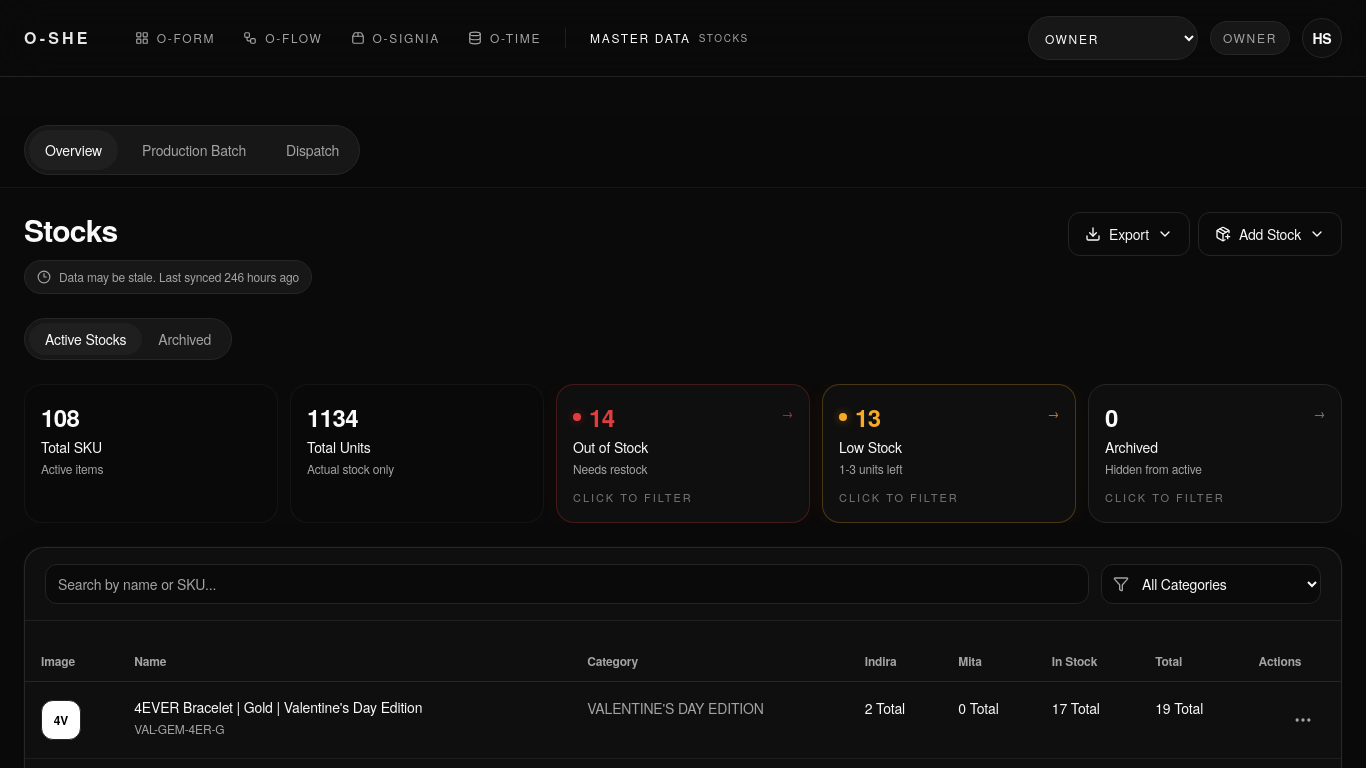
it: OverviewPage › resets the table filter when the active summary card is clicked again
This screenshot has width=1366, height=768.
Click the button "14 Out of Stock Needs restock → Click to filter" at (683, 453), box [556, 384, 810, 522]
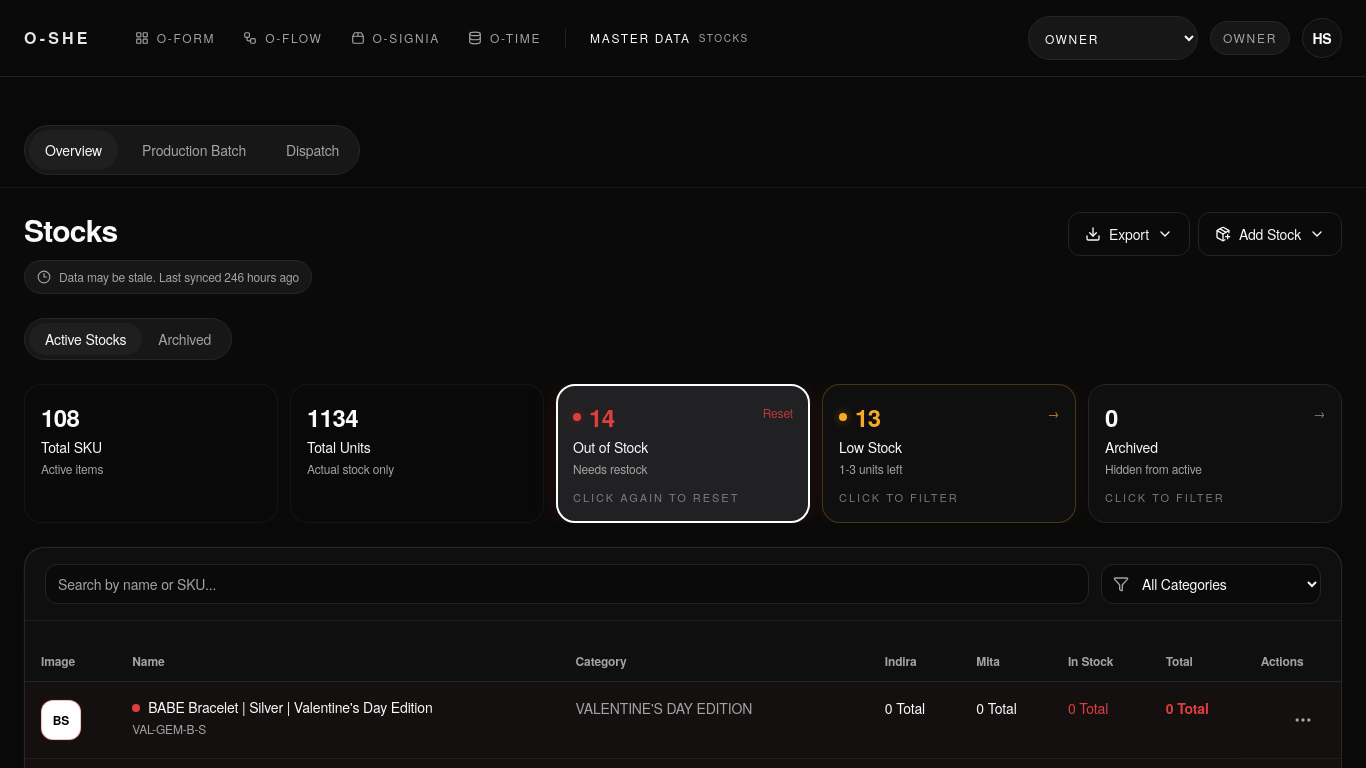
Expected: the text "4EVER Bracelet | Gold | Valentine's Day Edition" is gone
Click the button "14 Out of Stock Needs restock Reset Click again to reset" at (683, 453), box [556, 384, 810, 522]
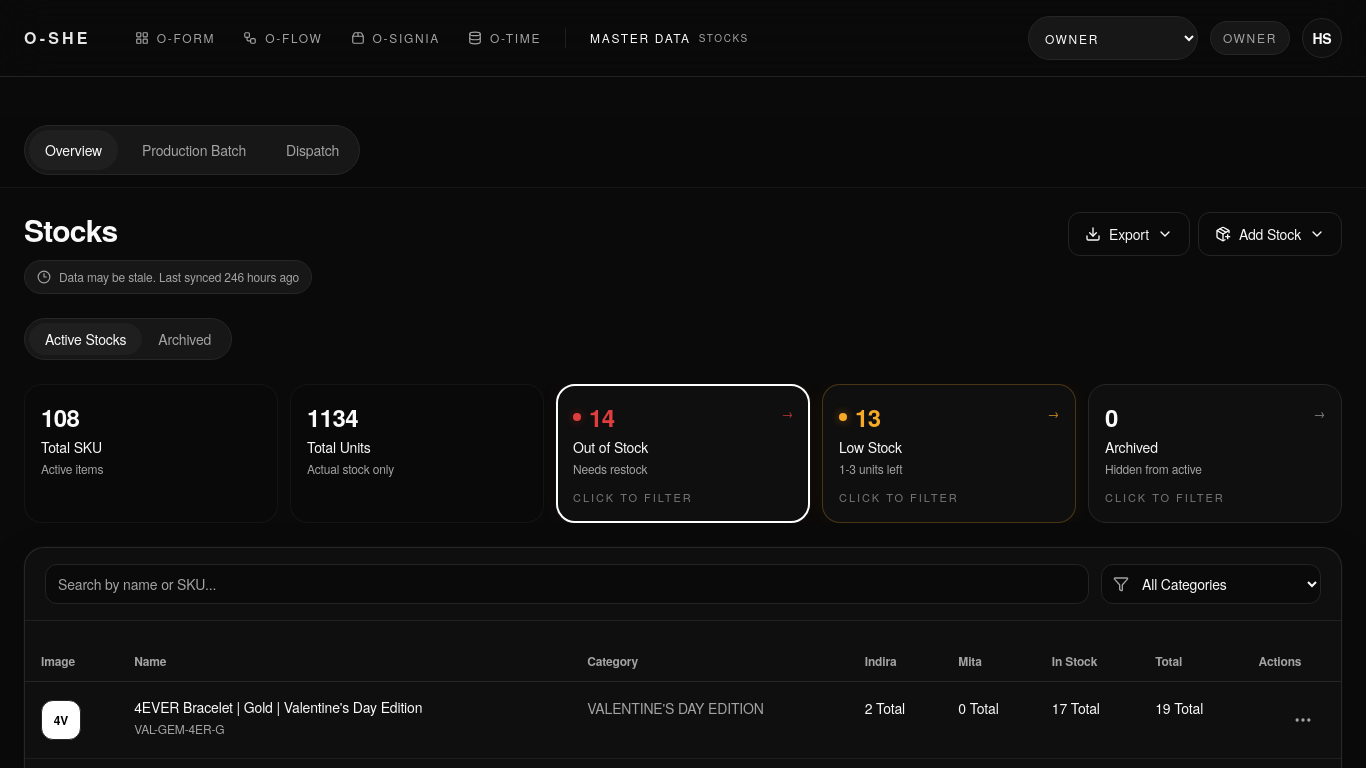
Expected: the text "4EVER Bracelet | Gold | Valentine's Day Edition" is shown, [134, 698, 422, 717]
